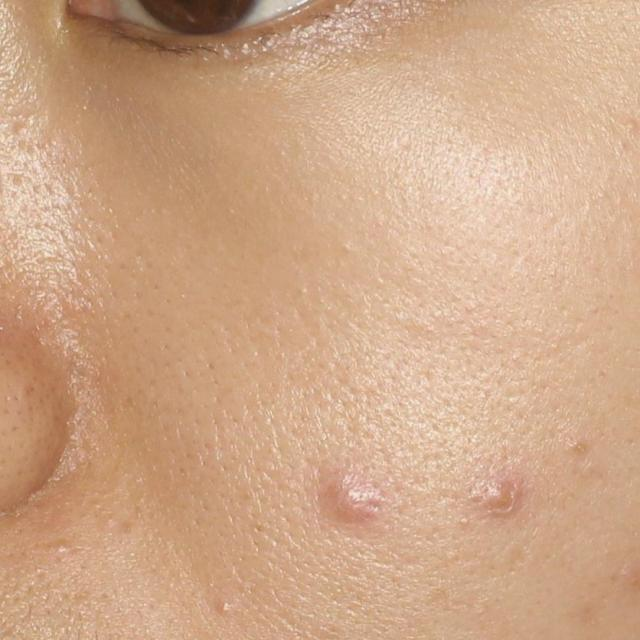nodule: (325, 478, 382, 522), (477, 476, 523, 518)
